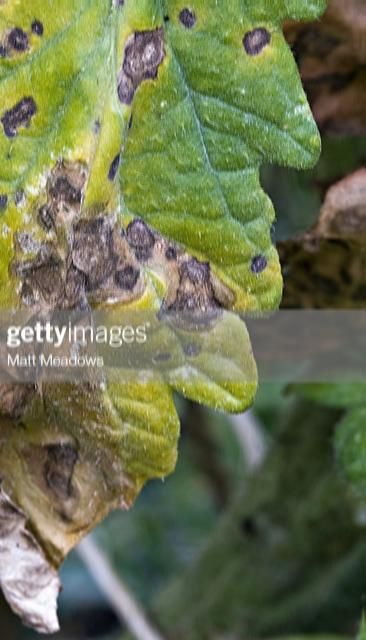Tomato Septoria leaf spot: (0, 0, 328, 615)
